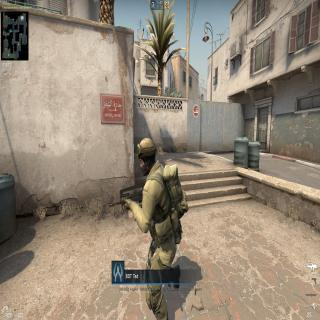CT-Head: (135, 134, 158, 177)
